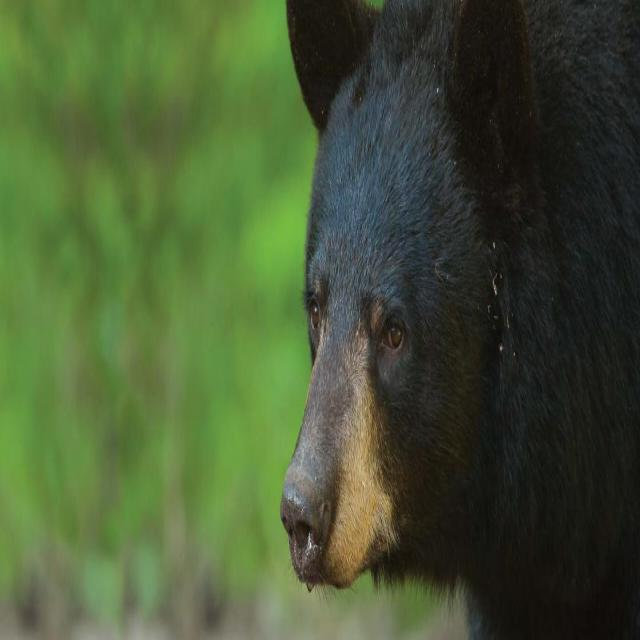Bear: (279, 0, 640, 640)
